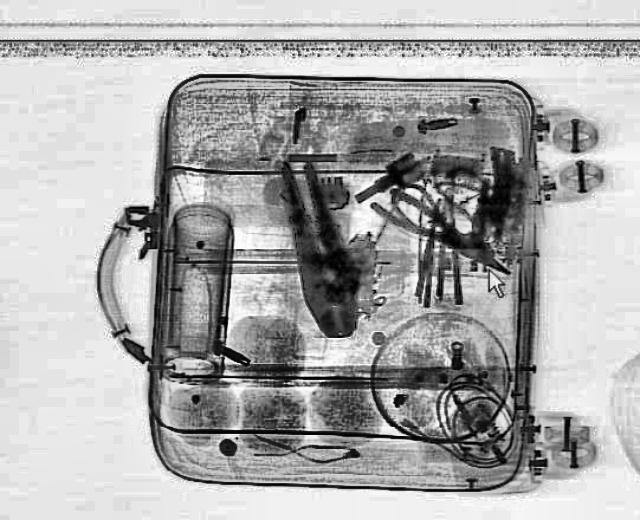Pliers: (267, 155, 371, 338), (363, 181, 523, 287)
